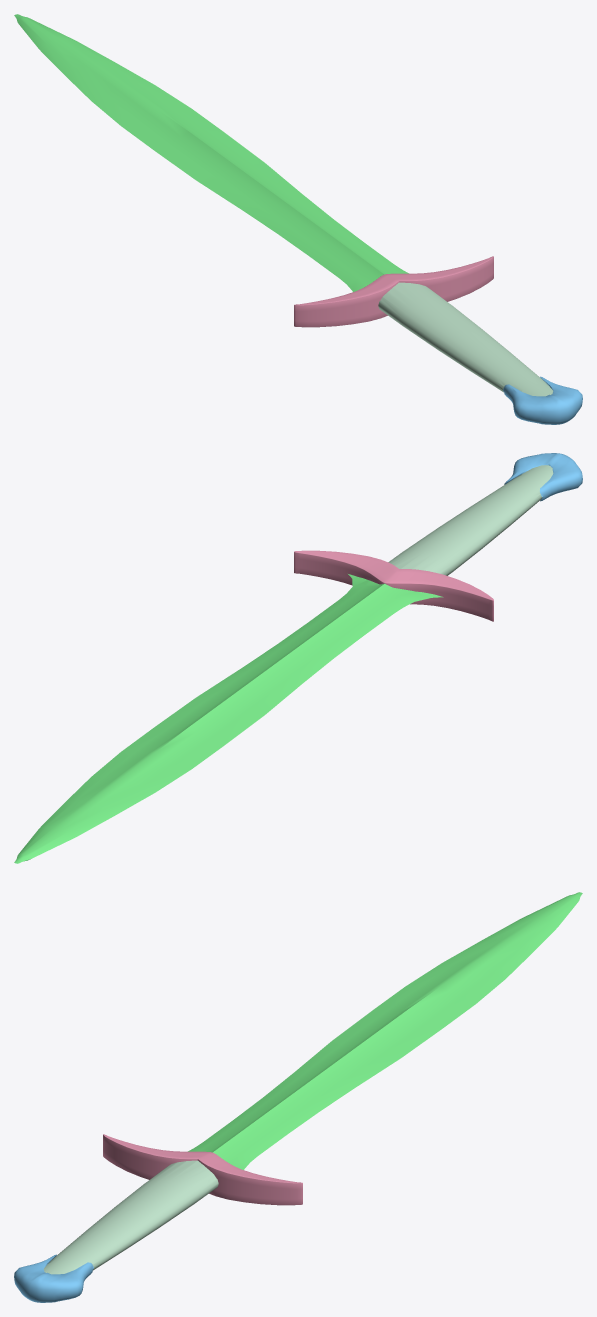
3 views of the same model, one above another, from view 1: azimuth 30°, elevation 25°; view 2: azimuth 150°, elevation 25°; view 3: azimuth 330°, elevation 25° (orthographic).
Visible parts, largest first — view 1: Lame_0, Manche_0, Garde_0, split_parent_1; view 2: Lame_0, Manche_0, Garde_0, split_parent_1; view 3: Lame_0, Manche_0, Garde_0, split_parent_1.
Boxes of the visible parts, <box> form: Lame_0: <box>14,14,408,291</box>; Manche_0: <box>378,282,553,396</box>; Garde_0: <box>294,256,493,327</box>; split_parent_1: <box>503,376,582,424</box>; Lame_0: <box>14,574,443,863</box>; Manche_0: <box>388,465,553,575</box>; Garde_0: <box>294,550,493,621</box>; split_parent_1: <box>504,453,582,501</box>; Lame_0: <box>188,892,582,1169</box>; Manche_0: <box>43,1160,218,1274</box>; Garde_0: <box>103,1134,302,1205</box>; split_parent_1: <box>14,1254,93,1302</box>.
Bounding box in the file's own units: 0.2107 × 0.0284 × 1.
